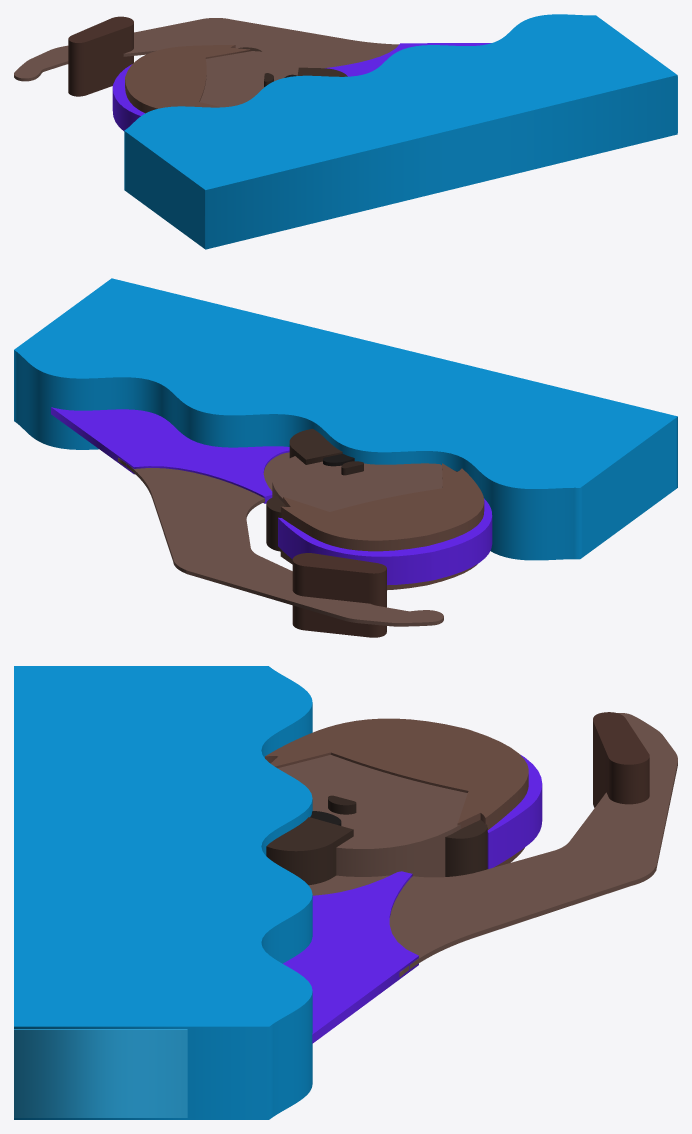
The model's file is emoji_u1f3ca_1f3ff_200d_2640.glb.
3 renders of one model, top to bottom at view 1: azimuth 30°, elevation 25°; view 2: azimuth 150°, elevation 25°; view 3: azimuth 270°, elevation 25°, orthographic. The views are drawn at different scales.
Visible parts, largest first — view 1: emoji_u1f3ca_1f3ff_200d_2640; view 2: emoji_u1f3ca_1f3ff_200d_2640; view 3: emoji_u1f3ca_1f3ff_200d_2640.
Boxes of the visible parts, box(x1,y1,x2,y2) form: emoji_u1f3ca_1f3ff_200d_2640: box(14, 14, 677, 249); emoji_u1f3ca_1f3ff_200d_2640: box(14, 278, 677, 637); emoji_u1f3ca_1f3ff_200d_2640: box(14, 666, 677, 1119).
Size of the model in its own units: 0.0333 by 0.004 by 0.0258.
